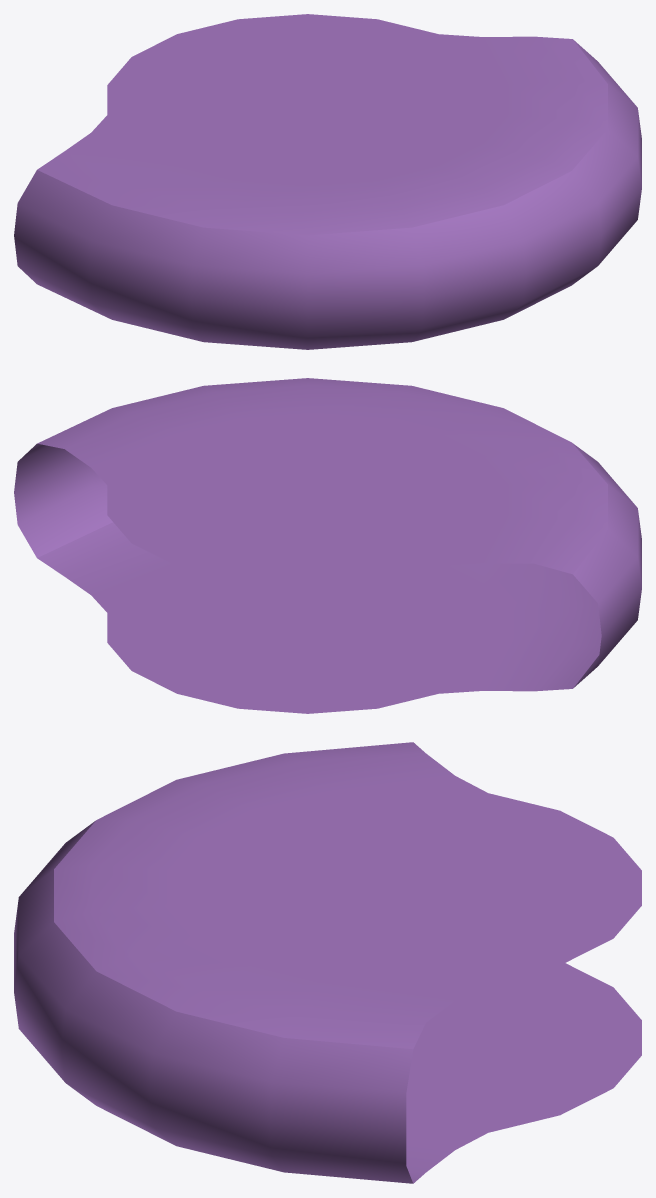
The model's file is advair1.fbx.
3 views of the same model, one above another, from view 1: azimuth 30°, elevation 25°; view 2: azimuth 150°, elevation 25°; view 3: azimuth 270°, elevation 25° (orthographic). The views are drawn at different scales.
Visible parts, largest first — view 1: pCylinder1; view 2: pCylinder1; view 3: pCylinder1.
Part boxes in pixels (left/top/right/bottom): pCylinder1: left=14, top=14, right=641, bottom=349; pCylinder1: left=14, top=378, right=641, bottom=713; pCylinder1: left=14, top=742, right=641, bottom=1183.
Bounding box in the file's own units: 33.16 × 6.88 × 26.13.
